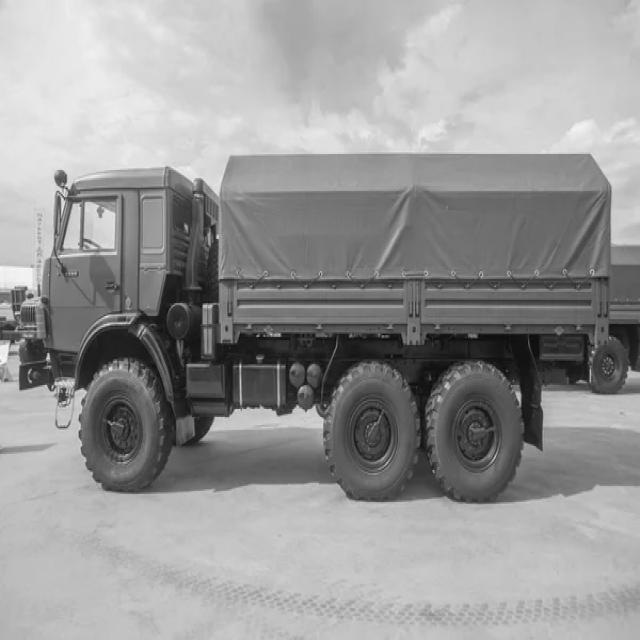Truck: (28, 154, 628, 501)
